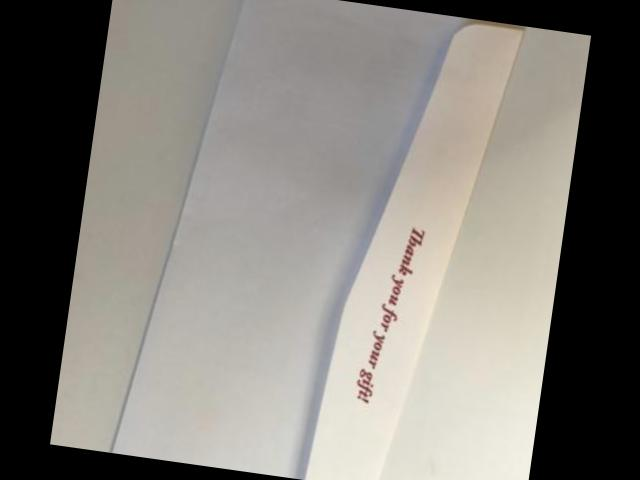cardboard paper: (110, 0, 519, 480)
